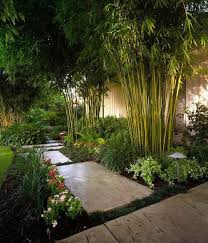bamboo: (108, 3, 195, 151), (1, 4, 62, 86), (64, 1, 99, 143)
